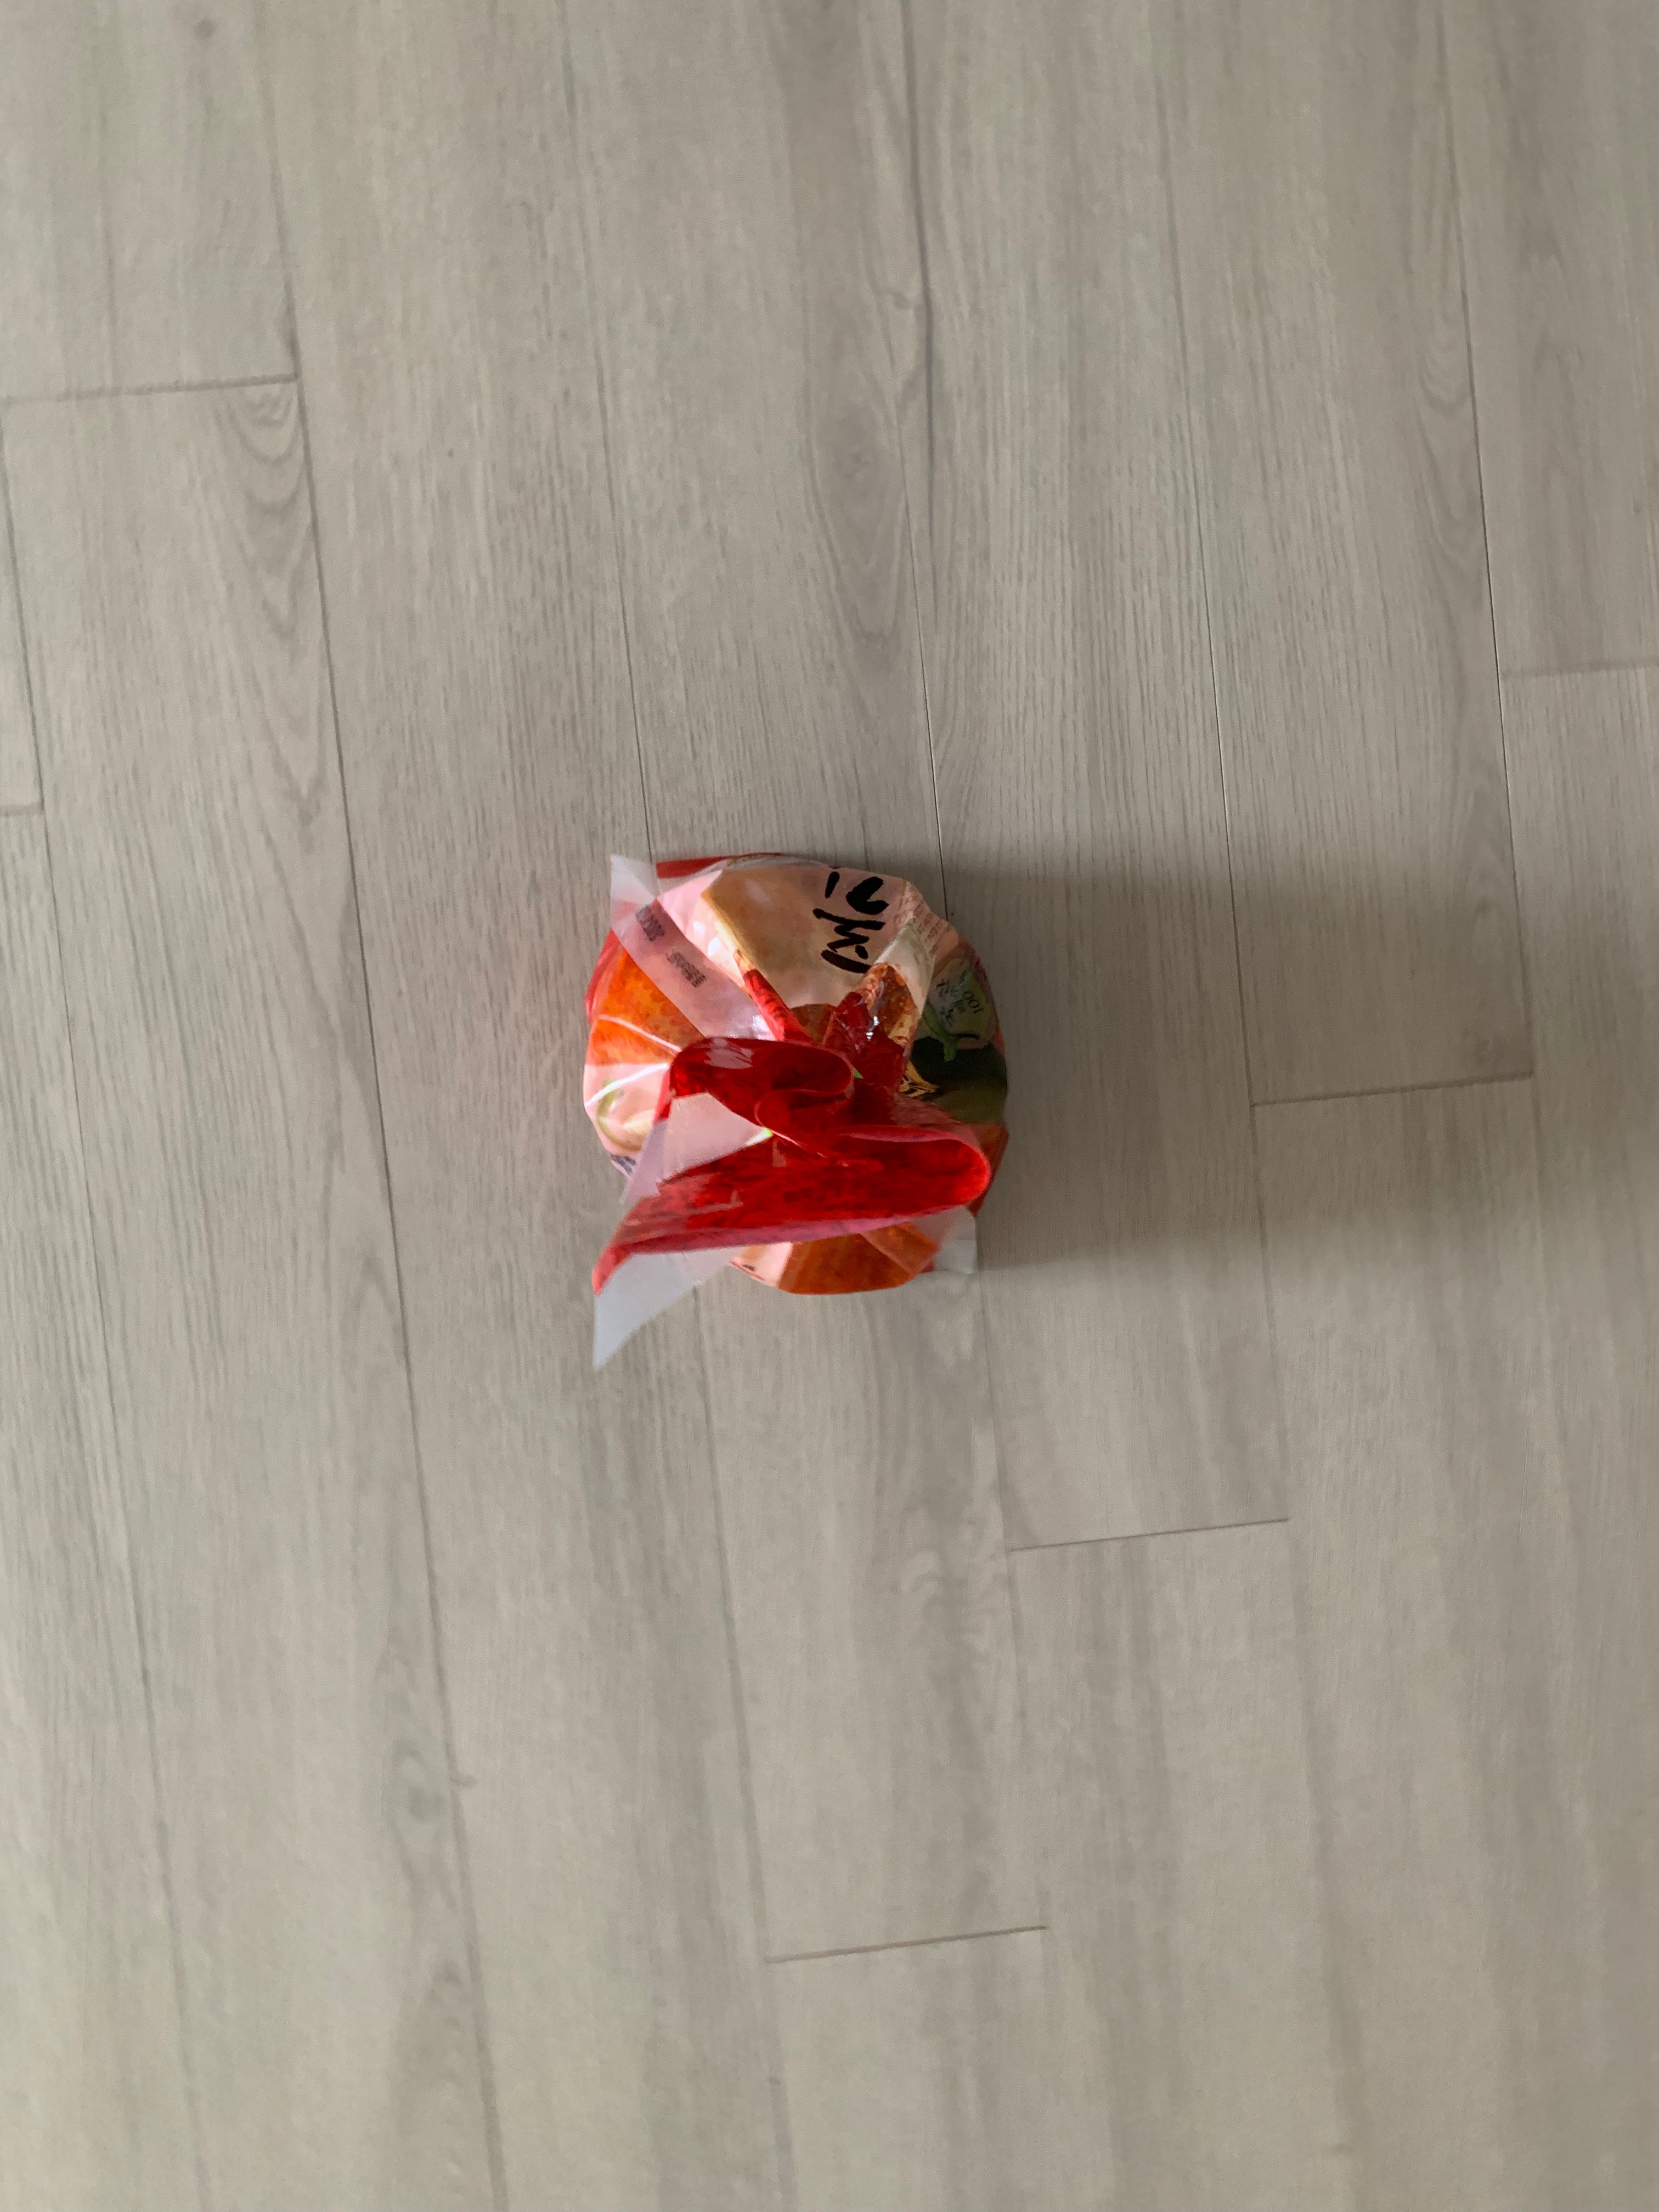kimchi: (582, 848, 1019, 1298)
